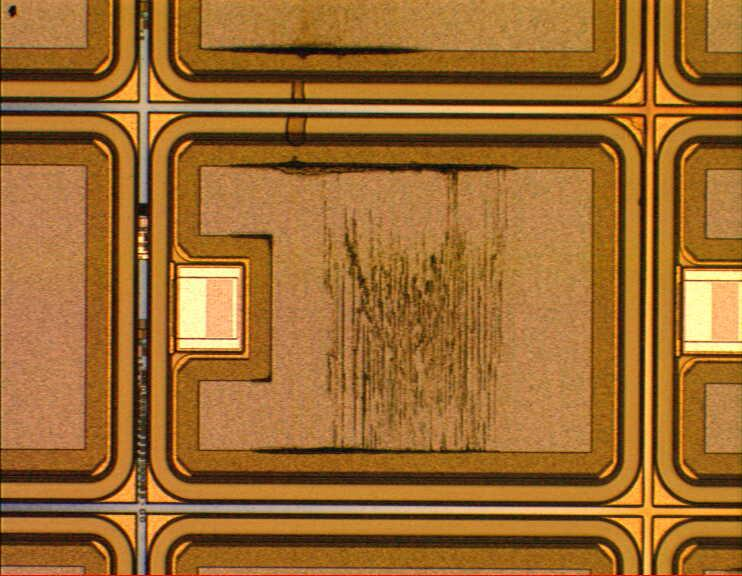SEZ BURNT: (210, 33, 530, 456)
